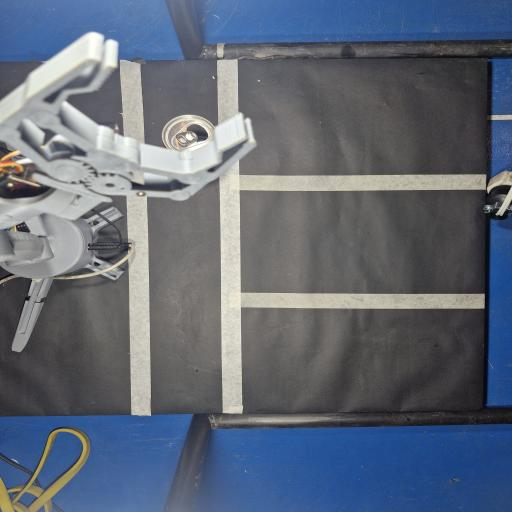lata: (162, 115, 214, 151)
